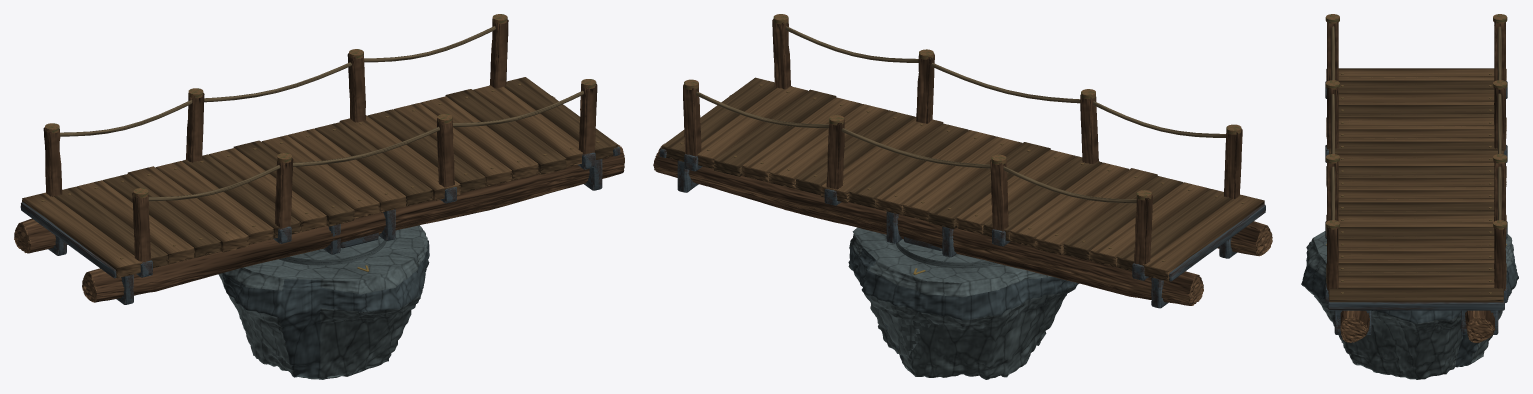
File: suspended_trunks_bridge.glb
The picture shows the model from 3 angles, left to right: view 1: azimuth 30°, elevation 25°; view 2: azimuth 150°, elevation 25°; view 3: azimuth 270°, elevation 25°; orthographic projection. The views are drawn at different scales.
Visible parts, largest first — view 1: Central layered islet, Fallen oak trunk south, Tread 01, Tread 17, Tread 05, Tread 12, Tread 11, Tread 06, Tread 10, Tread 16, Tread 18, Tread 09 (+26 smaller); view 2: Central layered islet, Fallen oak trunk north, Tread 01, Tread 17, Tread 05, Tread 12, Tread 11, Tread 06, Tread 10, Tread 16, Tread 18, Tread 09 (+26 smaller); view 3: Central layered islet, Tread 19, Tread 07, Tread 17, Tread 05, Tread 01, Tread 13, Tread 12, Tread 06, Tread 08, Tread 10, Tread 15 (+27 smaller).
Part boxes in pixels (<box>): Central layered islet: <box>218,225,429,379</box>; Fallen oak trunk south: <box>82,144,624,302</box>; Tread 01: <box>22,192,142,278</box>; Tread 17: <box>445,89,566,174</box>; Tread 05: <box>127,166,248,252</box>; Tread 12: <box>314,122,432,206</box>; Tread 11: <box>288,128,406,212</box>; Tread 06: <box>155,161,273,244</box>; Tread 10: <box>261,135,379,218</box>; Tread 16: <box>420,96,538,180</box>; Tread 18: <box>473,85,582,167</box>; Tread 09: <box>233,140,354,226</box>; Central layered islet: <box>848,227,1079,379</box>; Fallen oak trunk north: <box>653,143,1203,305</box>; Tread 01: <box>1142,194,1264,281</box>; Tread 17: <box>714,89,836,176</box>; Tread 05: <box>1035,168,1157,255</box>; Tread 12: <box>849,123,968,208</box>; Tread 11: <box>876,130,995,214</box>; Tread 06: <box>1010,162,1129,247</box>; Tread 10: <box>902,136,1022,221</box>; Tread 16: <box>742,97,861,182</box>; Tread 18: <box>697,86,807,168</box>; Tread 09: <box>928,142,1050,228</box>; Central layered islet: <box>1301,231,1518,379</box>; Tread 19: <box>1329,287,1503,302</box>; Tread 07: <box>1329,141,1503,153</box>; Tread 17: <box>1326,263,1506,284</box>; Tread 05: <box>1326,117,1506,138</box>; Tread 01: <box>1326,68,1506,80</box>; Tread 13: <box>1326,214,1506,235</box>; Tread 12: <box>1338,202,1494,214</box>; Tread 06: <box>1338,129,1494,141</box>; Tread 08: <box>1329,153,1503,165</box>; Tread 10: <box>1338,178,1494,190</box>; Tread 15: <box>1338,239,1494,251</box>.
Bounding box in the file's own units: 5.39 × 2.39 × 2.03.
10 materials, 10 textured.
